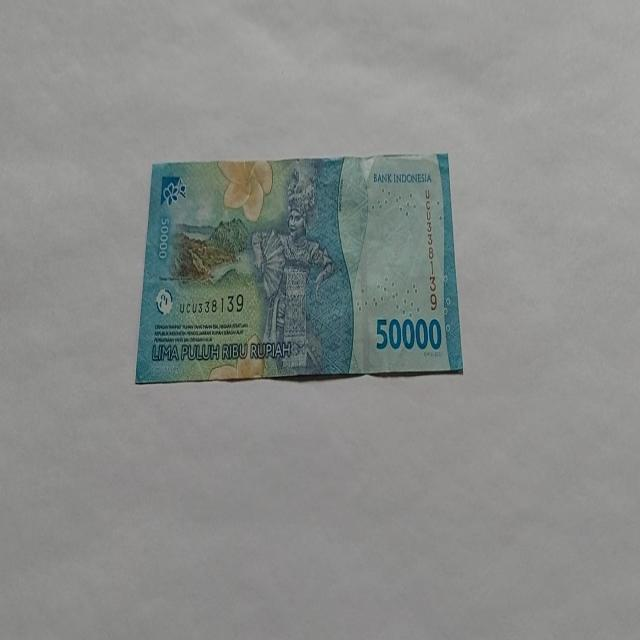lima puluh ribu rupiah: (134, 152, 464, 385)
